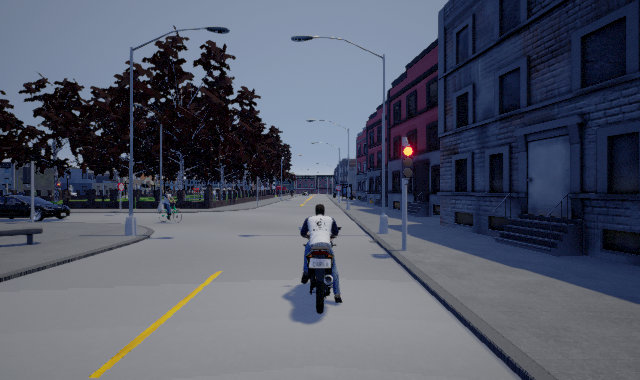bike: (155, 190, 185, 223)
motobike: (295, 202, 348, 318)
traffic_light: (401, 139, 413, 185)
vehicle: (1, 192, 73, 222)
